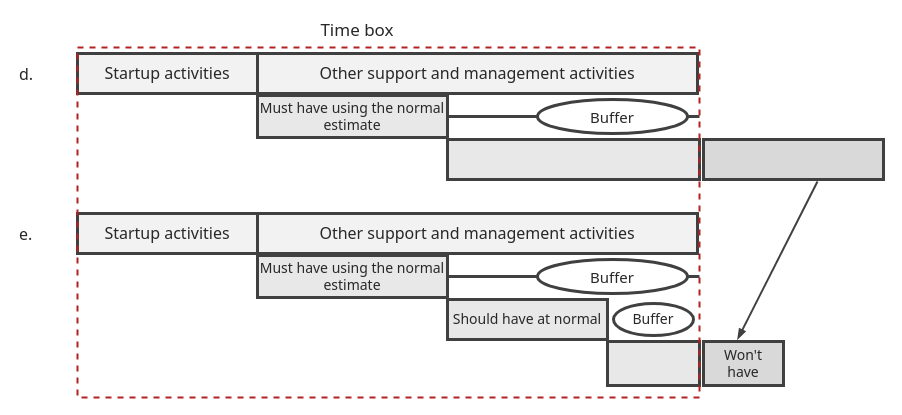
Some shapes in this 902 by 415 pixel diagram are drawn without their labels. Each missing label, with the centre of its shape:
"Could have at safe" belongs at (x=653, y=363).
"Lower priority deliverables" belongs at (x=793, y=159).
"Should have at safe level" belongs at (x=573, y=159).
